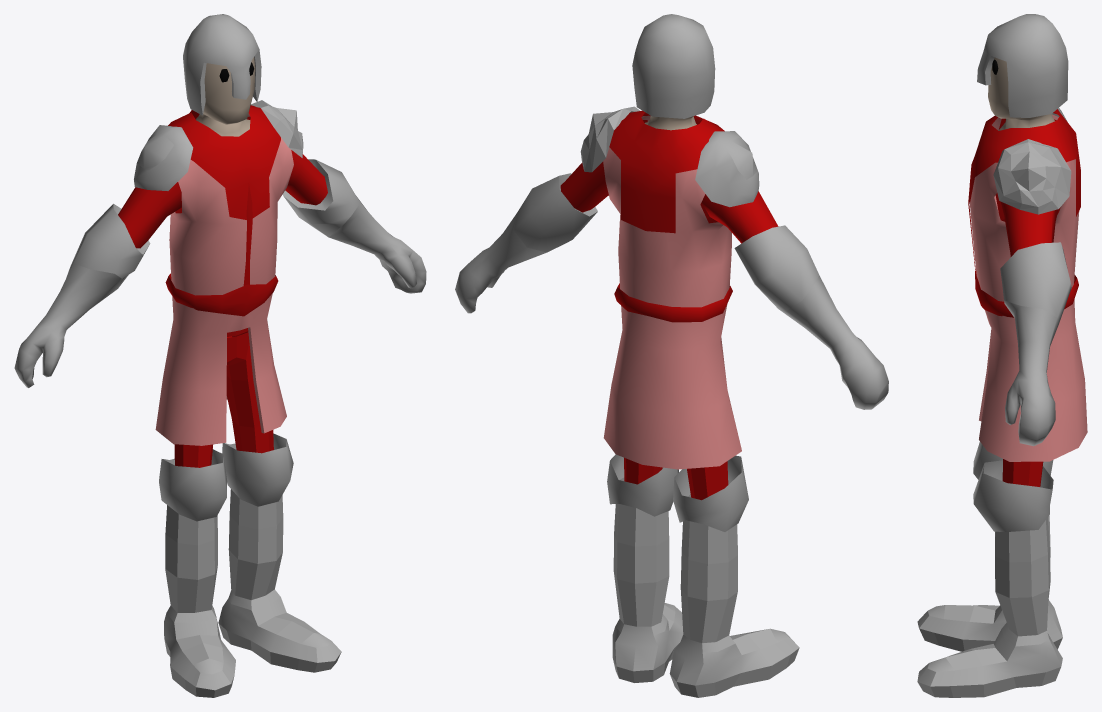
File: villager_soldier.fbx
The picture shows the model from 3 angles, left to right: view 1: azimuth 30°, elevation 25°; view 2: azimuth 150°, elevation 25°; view 3: azimuth 270°, elevation 25°; orthographic projection. The views are drawn at different scales.
Parts seen in each view (by area): view 1: shirt, boot_L, boot_R, glove_R, shirtChest, glove_L, helmet, pants1, undershirt, knee_L, knee_R, shoulder_R (+3 smaller); view 2: shirt, boot_R, boot_L, glove_R, shirtChest, helmet, glove_L, shoulder_R, undershirt, knee_R, knee_L, belt (+2 smaller); view 3: shirt, boot_L, glove_L, helmet, shoulder_L, knee_L, boot_R, shirtChest, undershirt, head1, pants1, belt (+1 smaller).
Part boxes in pixels (x1,y1,x2,y2): shirt: [155, 113, 293, 445]; boot_L: [218, 489, 341, 672]; boot_R: [164, 505, 235, 697]; glove_R: [14, 203, 150, 387]; shirtChest: [168, 105, 280, 219]; glove_L: [282, 159, 426, 293]; helmet: [183, 14, 261, 115]; pants1: [174, 328, 273, 467]; undershirt: [118, 116, 327, 248]; knee_L: [222, 433, 293, 506]; knee_R: [159, 449, 227, 521]; shoulder_R: [134, 125, 193, 190]; shirt: [603, 115, 741, 469]; boot_R: [669, 494, 799, 697]; boot_L: [612, 477, 683, 682]; glove_R: [734, 225, 888, 409]; shirtChest: [609, 110, 724, 233]; helmet: [632, 14, 715, 118]; glove_L: [455, 173, 597, 313]; shoulder_R: [695, 131, 759, 207]; undershirt: [560, 120, 778, 243]; knee_R: [673, 455, 748, 531]; knee_L: [607, 454, 678, 516]; belt: [614, 283, 732, 322]; shirt: [970, 114, 1087, 461]; boot_L: [917, 517, 1062, 697]; glove_L: [1000, 242, 1071, 446]; helmet: [977, 14, 1068, 117]; shoulder_L: [993, 139, 1071, 214]; knee_L: [973, 460, 1053, 531]; boot_R: [917, 515, 1062, 651]; shirtChest: [969, 109, 1080, 216]; undershirt: [995, 118, 1060, 256]; head1: [988, 57, 1054, 130]; pants1: [1002, 459, 1043, 486]; belt: [975, 270, 1078, 317].
Bounding box in the file's own units: 13.84 × 20.58 × 4.92.
